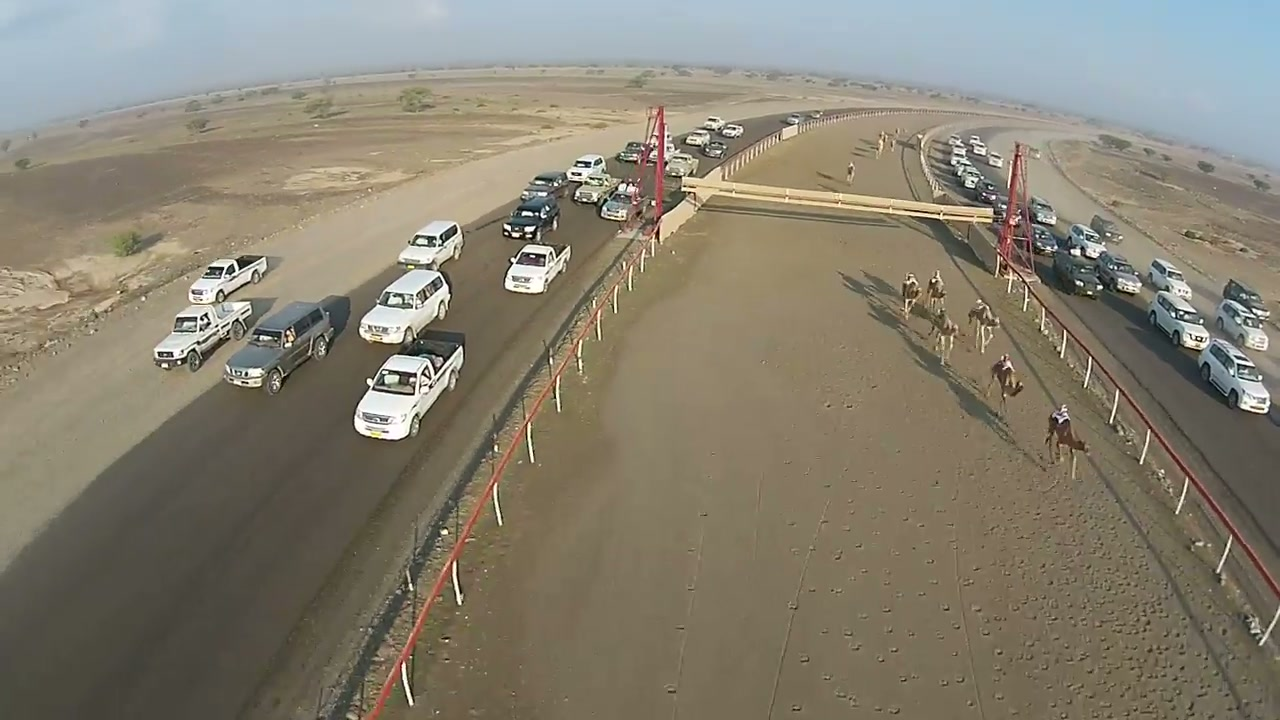animal_foot_print: (964, 389, 1211, 711)
